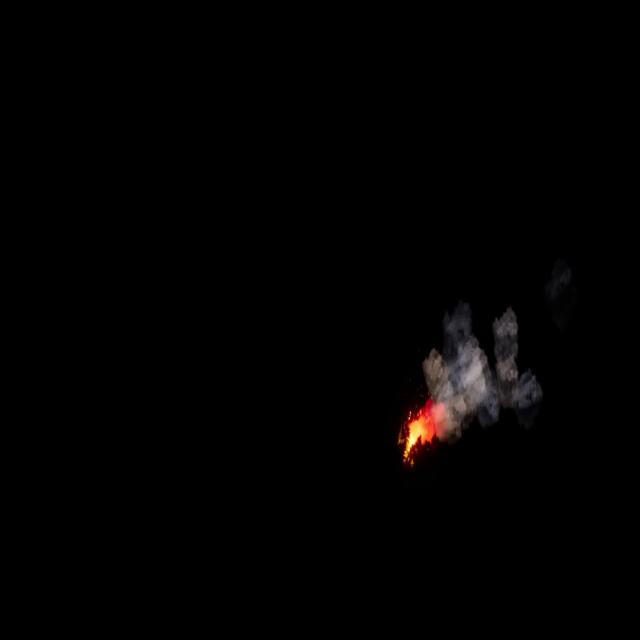fire: (402, 402, 440, 459)
smoke: (424, 306, 544, 429)
